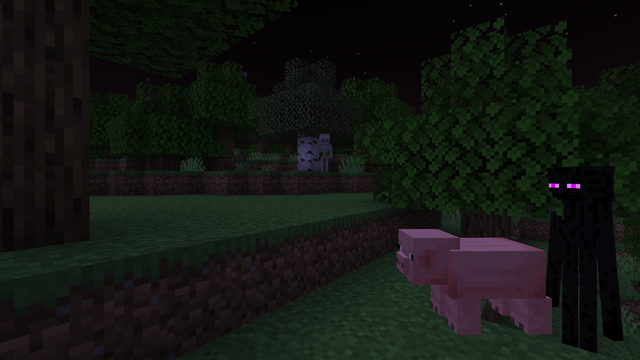cochons: (427, 230, 529, 354)
endermens: (551, 159, 612, 351)
squelettes: (316, 133, 332, 163)
